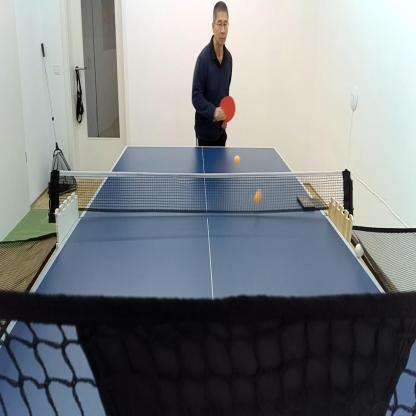Ball: (354, 242, 365, 260), (254, 188, 262, 206), (233, 154, 241, 166)
